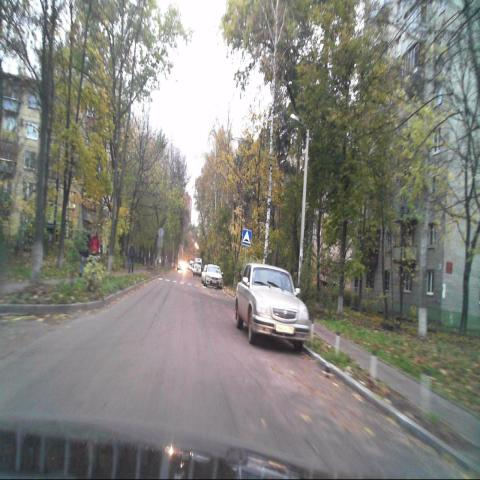5_20: (242, 228, 251, 246)
